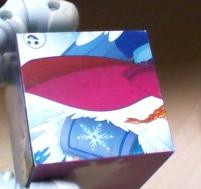Red1: (14, 28, 173, 164)
